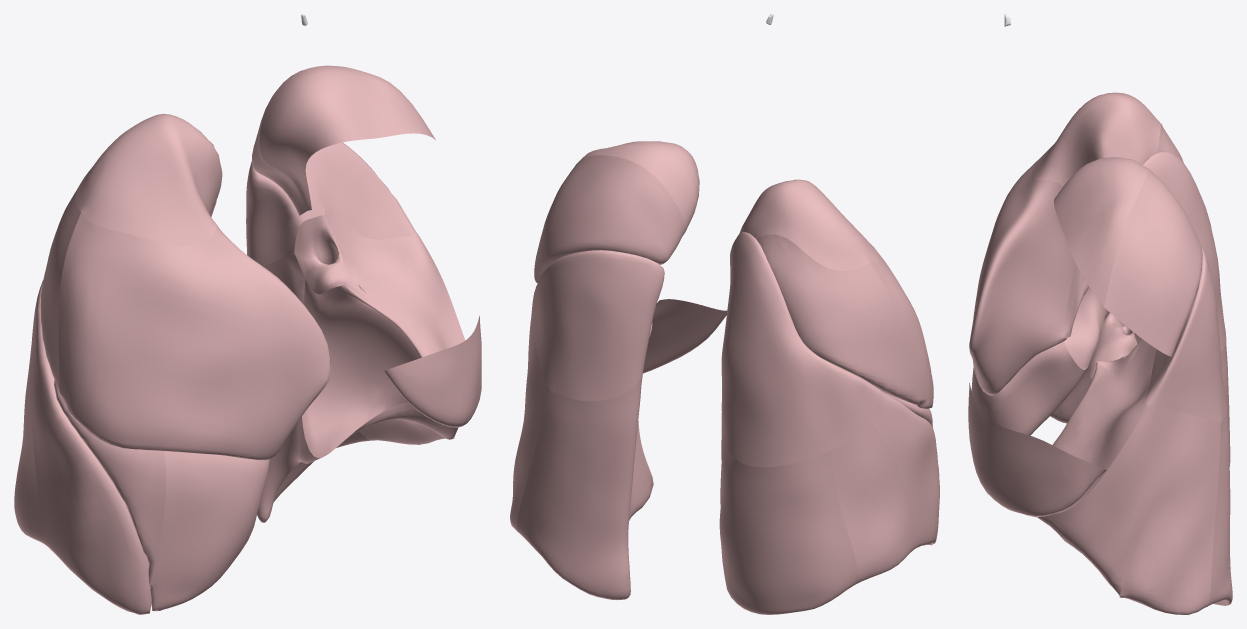
The model's file is female-a-organ-13a.glb.
3 renders of one model, left to right at view 1: azimuth 30°, elevation 25°; view 2: azimuth 150°, elevation 25°; view 3: azimuth 270°, elevation 25°, orthographic. The views are drawn at different scales.
Visible parts, largest first — view 1: VH_F_right_anterior_bronchopulmonary_segm, VH_F_left_medial_basal_bronchopulmonary_segment, VH_F_right_anterior_basal_bronchopulmonary_segment, VH_F_right_apical_bronchopulmonary_segment, VH_F_right_medial_bronchopulmonary_segment, VH_F_left_apical_bronchopulmonary_segment, VH_F_left_superior_bronchopulmonary_segment, VH_F_lingula_inferior_bronchopulmonary_segment, VH_F_right_lateral_bronchopulmonary_segmennt, VH_F_left_posterior_basal_bronchopulmonary_segment, VH_F_hilum_lower_L, VH_F_right_posterior_bronchopulmonary_segment (+4 smaller); view 2: VH_F_right_superior_bronchopulmonary_segment, VH_F_left_posterior_basal_bronchopulmonary_segment, VH_F_right_posterior_basal_bronchopulmonary_segment, VH_F_left_superior_bronchopulmonary_segment, VH_F_right_posterior_bronchopulmonary_segment, VH_F_left_posterior_bronchopulmonary_segment, VH_F_right_lateral_basal_bronchopulmonary_segment, VH_F_right_apical_bronchopulmonary_segment, VH_F_right_anterior_basal_bronchopulmonary_segment, VH_F_lingula_inferior_bronchopulmonary_segment, VH_F_left_apical_bronchopulmonary_segment, VH_F_left_lateral_basal_bronchopulmonary_segment (+1 smaller); view 3: VH_F_right_anterior_bronchopulmonary_segm, VH_F_left_lateral_basal_bronchopulmonary_segment, VH_F_left_posterior_bronchopulmonary_segment, VH_F_left_anterior_basal_bronchopulmonary_segment, VH_F_lingula_inferior_bronchopulmonary_segment, VH_F_left_apical_bronchopulmonary_segment, VH_F_left_superior_bronchopulmonary_segment, VH_F_left_medial_basal_bronchopulmonary_segment, VH_F_right_apical_bronchopulmonary_segment, VH_F_right_medial_bronchopulmonary_segment, VH_F_right_superior_bronchopulmonary_segment, VH_F_left_posterior_basal_bronchopulmonary_segment (+8 smaller).
Boxes of the visible parts, bbox=[...] form: VH_F_right_anterior_bronchopulmonary_segm: bbox=[58, 212, 330, 460]; VH_F_left_medial_basal_bronchopulmonary_segment: bbox=[302, 214, 465, 457]; VH_F_right_anterior_basal_bronchopulmonary_segment: bbox=[30, 334, 151, 614]; VH_F_right_apical_bronchopulmonary_segment: bbox=[75, 113, 222, 246]; VH_F_right_medial_bronchopulmonary_segment: bbox=[149, 451, 269, 611]; VH_F_left_apical_bronchopulmonary_segment: bbox=[259, 65, 435, 210]; VH_F_left_superior_bronchopulmonary_segment: bbox=[246, 142, 419, 266]; VH_F_lingula_inferior_bronchopulmonary_segment: bbox=[358, 284, 481, 427]; VH_F_right_lateral_bronchopulmonary_segmennt: bbox=[54, 380, 165, 583]; VH_F_left_posterior_basal_bronchopulmonary_segment: bbox=[257, 252, 369, 522]; VH_F_hilum_lower_L: bbox=[294, 214, 353, 294]; VH_F_right_posterior_bronchopulmonary_segment: bbox=[40, 187, 80, 394]; VH_F_right_superior_bronchopulmonary_segment: bbox=[721, 232, 880, 467]; VH_F_left_posterior_basal_bronchopulmonary_segment: bbox=[516, 374, 653, 599]; VH_F_right_posterior_basal_bronchopulmonary_segment: bbox=[719, 429, 857, 614]; VH_F_left_superior_bronchopulmonary_segment: bbox=[531, 250, 664, 401]; VH_F_right_posterior_bronchopulmonary_segment: bbox=[756, 234, 919, 404]; VH_F_left_posterior_bronchopulmonary_segment: bbox=[534, 155, 685, 282]; VH_F_right_lateral_basal_bronchopulmonary_segment: bbox=[830, 421, 915, 583]; VH_F_right_apical_bronchopulmonary_segment: bbox=[739, 179, 878, 270]; VH_F_right_anterior_basal_bronchopulmonary_segment: bbox=[870, 389, 939, 548]; VH_F_lingula_inferior_bronchopulmonary_segment: bbox=[643, 299, 727, 373]; VH_F_left_apical_bronchopulmonary_segment: bbox=[578, 141, 699, 231]; VH_F_left_lateral_basal_bronchopulmonary_segment: bbox=[510, 340, 549, 530]; VH_F_right_anterior_bronchopulmonary_segm: bbox=[969, 158, 1075, 395]; VH_F_left_lateral_basal_bronchopulmonary_segment: bbox=[1120, 411, 1220, 614]; VH_F_left_posterior_bronchopulmonary_segment: bbox=[1104, 169, 1202, 356]; VH_F_left_anterior_basal_bronchopulmonary_segment: bbox=[1037, 404, 1179, 597]; VH_F_lingula_inferior_bronchopulmonary_segment: bbox=[968, 383, 1106, 517]; VH_F_left_apical_bronchopulmonary_segment: bbox=[1054, 157, 1149, 306]; VH_F_left_superior_bronchopulmonary_segment: bbox=[1145, 247, 1227, 422]; VH_F_left_medial_basal_bronchopulmonary_segment: bbox=[1053, 339, 1156, 513]; VH_F_right_apical_bronchopulmonary_segment: bbox=[1031, 92, 1161, 185]; VH_F_right_medial_bronchopulmonary_segment: bbox=[971, 341, 1086, 435]; VH_F_right_superior_bronchopulmonary_segment: bbox=[1134, 151, 1226, 351]; VH_F_left_posterior_basal_bronchopulmonary_segment: bbox=[1208, 410, 1232, 605].
Bounding box in the file's own units: 0.2122 × 0.2847 × 0.1221.
